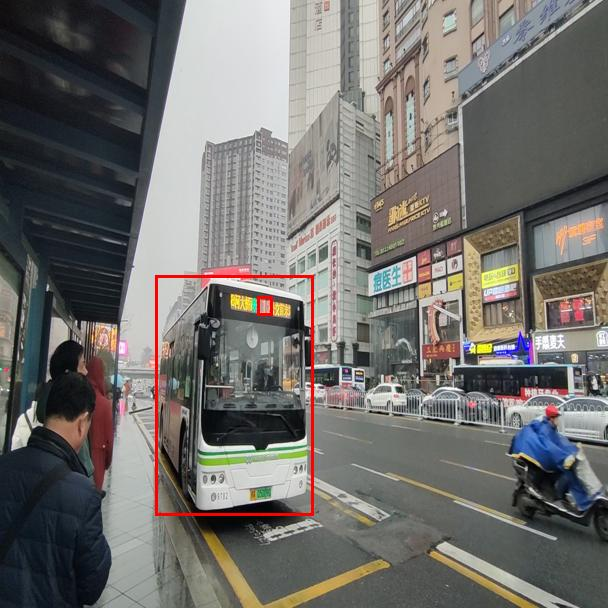bus: (155, 275, 313, 515)
screen: (257, 296, 272, 315)
